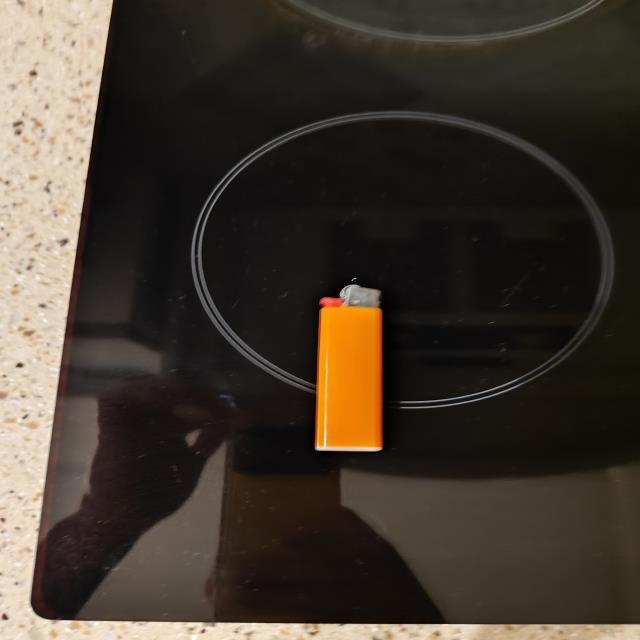lighter: (314, 284, 382, 451)
